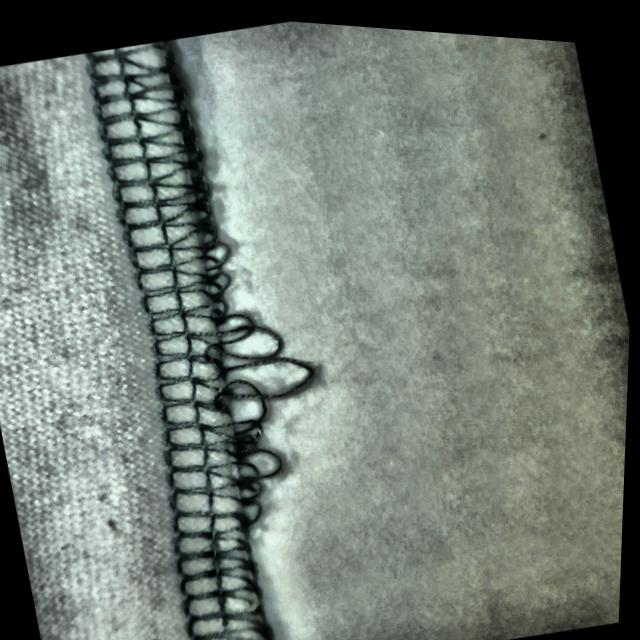Stitch: (100, 215, 355, 548)
